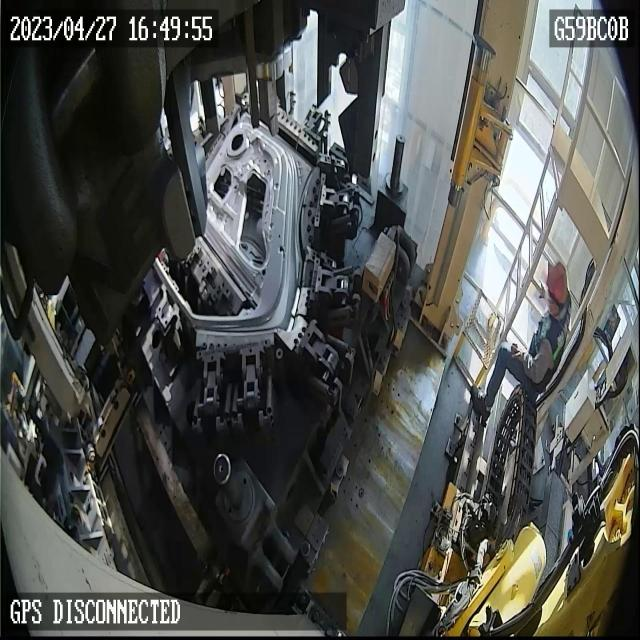Person: (468, 260, 572, 427)
